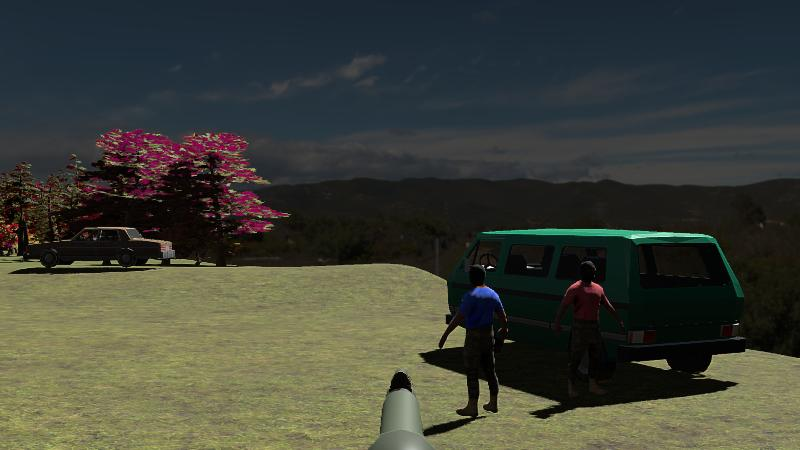Human: (439, 264, 510, 419), (558, 260, 617, 399)
car: (444, 229, 747, 385), (18, 226, 176, 269)
